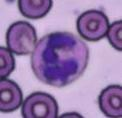N: (32, 31, 88, 85)
